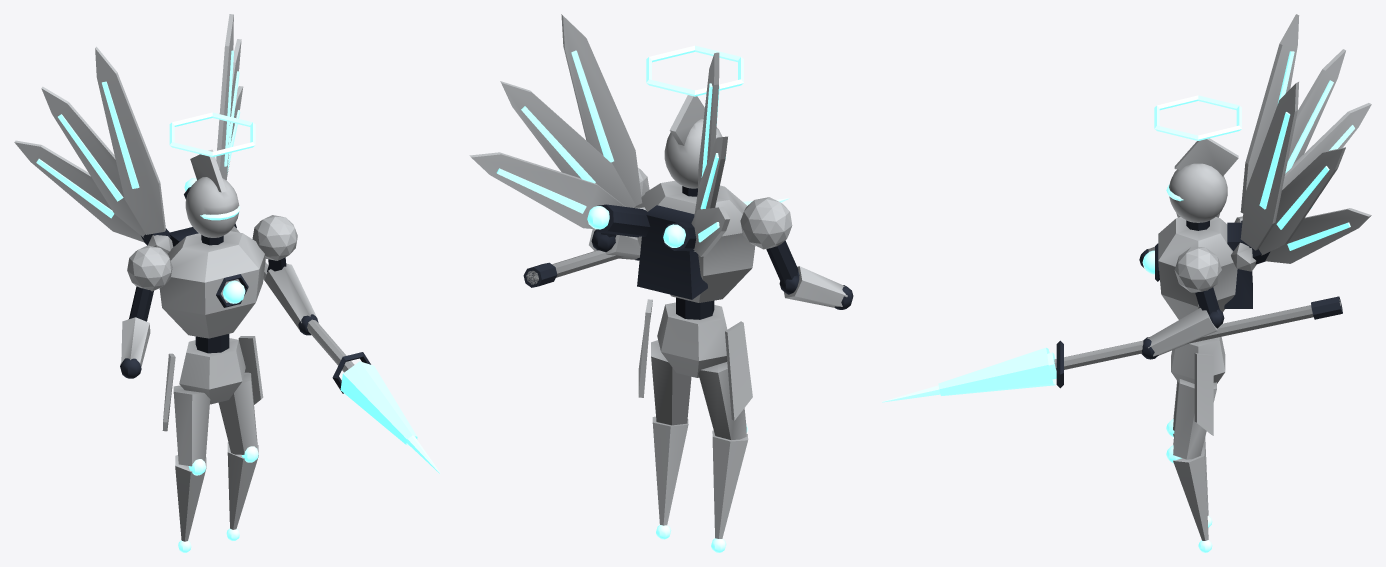
File: mech_lancer.glb
The picture shows the model from 3 angles, left to right: view 1: azimuth 30°, elevation 25°; view 2: azimuth 150°, elevation 25°; view 3: azimuth 270°, elevation 25°; orthographic projection. The views are drawn at different scales.
Visible parts, largest first — view 1: body, wing_L_a, wing_R_a, spin_y_halo; view 2: body, wing_R_a, wing_L_a, spin_y_halo; view 3: body, wing_R_a, wing_L_a, spin_y_halo.
Part boxes in pixels (box(x1,y1,x2,y2)): body: box(120, 149, 440, 552); wing_L_a: box(14, 46, 173, 253); wing_R_a: box(216, 14, 243, 180); spin_y_halo: box(169, 112, 255, 157); body: box(523, 95, 853, 552); wing_R_a: box(469, 14, 646, 237); wing_L_a: box(691, 52, 729, 256); spin_y_halo: box(646, 45, 743, 96); body: box(882, 138, 1342, 552); wing_R_a: box(1231, 82, 1371, 271); wing_L_a: box(1234, 14, 1371, 222); spin_y_halo: box(1154, 95, 1241, 140).
Size of the model in its own units: 1.14 by 2.28 by 2.06.
